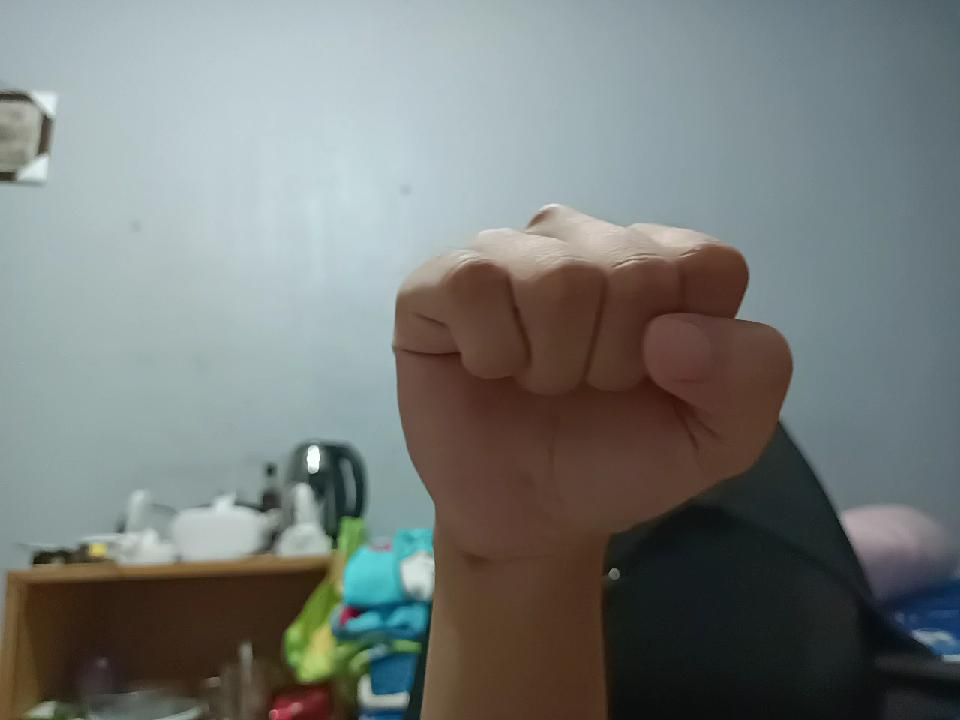rock: (400, 176, 744, 580)
